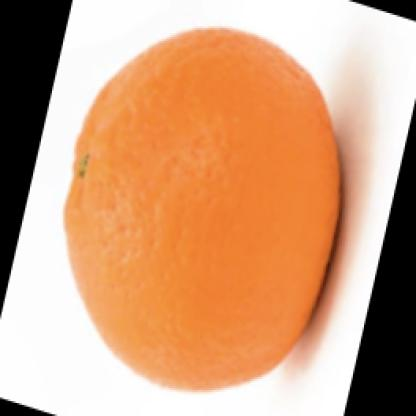fresh: (65, 28, 342, 394)
